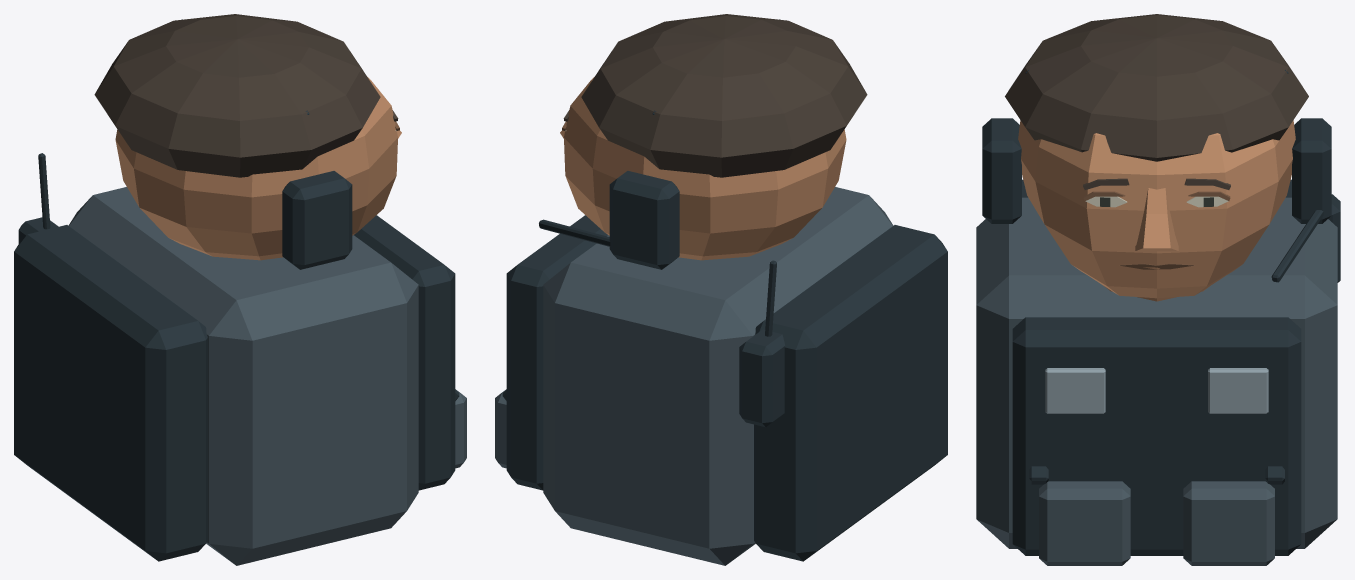
File: urban-assault.helmet-off.glb
3 views of the same model, side by side, from view 1: azimuth 30°, elevation 25°; view 2: azimuth 150°, elevation 25°; view 3: azimuth 270°, elevation 25° (orthographic). The views are drawn at different scales.
Parts seen in each view (by area): view 1: urban-assault_helmet-off__main__torso_finish_4a5962_0.03, urban-assault_helmet-off__main__torso_finish_28353c_0.03, urban-assault_helmet-off__main__head_finish_473e36_0.03, urban-assault_helmet-off__main__head, urban-assault_helmet-off__main__head_finish_28353c_0.03; view 2: urban-assault_helmet-off__main__torso_finish_4a5962_0.03, urban-assault_helmet-off__main__torso_finish_28353c_0.03, urban-assault_helmet-off__main__head_finish_473e36_0.03, urban-assault_helmet-off__main__head, urban-assault_helmet-off__main__head_finish_28353c_0.03; view 3: urban-assault_helmet-off__main__torso_finish_4a5962_0.03, urban-assault_helmet-off__main__torso_finish_28353c_0.03, urban-assault_helmet-off__main__head_finish_473e36_0.03, urban-assault_helmet-off__main__head, urban-assault_helmet-off__main__head_finish_28353c_0.03, urban-assault_helmet-off__main__torso_finish_93a4ad_0.03.
Part boxes in pixels (left/top/right/bottom): urban-assault_helmet-off__main__torso_finish_4a5962_0.03: left=68, top=187, right=466, bottom=565; urban-assault_helmet-off__main__torso_finish_28353c_0.03: left=14, top=153, right=459, bottom=561; urban-assault_helmet-off__main__head_finish_473e36_0.03: left=94, top=14, right=380, bottom=177; urban-assault_helmet-off__main__head: left=115, top=77, right=401, bottom=260; urban-assault_helmet-off__main__head_finish_28353c_0.03: left=181, top=19, right=352, bottom=269; urban-assault_helmet-off__main__torso_finish_4a5962_0.03: left=495, top=187, right=893, bottom=565; urban-assault_helmet-off__main__torso_finish_28353c_0.03: left=502, top=215, right=947, bottom=561; urban-assault_helmet-off__main__head_finish_473e36_0.03: left=581, top=14, right=867, bottom=177; urban-assault_helmet-off__main__head: left=560, top=77, right=846, bottom=260; urban-assault_helmet-off__main__head_finish_28353c_0.03: left=539, top=19, right=780, bottom=269; urban-assault_helmet-off__main__torso_finish_4a5962_0.03: left=976, top=197, right=1337, bottom=565; urban-assault_helmet-off__main__torso_finish_28353c_0.03: left=1012, top=179, right=1340, bottom=555; urban-assault_helmet-off__main__head_finish_473e36_0.03: left=1005, top=14, right=1308, bottom=161; urban-assault_helmet-off__main__head: left=1018, top=120, right=1295, bottom=298; urban-assault_helmet-off__main__head_finish_28353c_0.03: left=982, top=69, right=1331, bottom=282; urban-assault_helmet-off__main__torso_finish_93a4ad_0.03: left=1045, top=368, right=1268, bottom=413.
Bounding box in the file's own units: 30.25 × 39.5 × 27.77.
